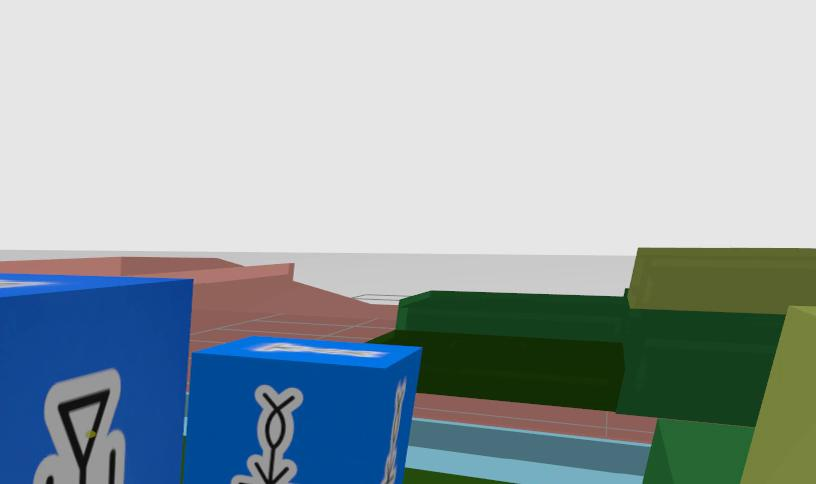KFS_REAL: (33, 370, 125, 483), (230, 385, 302, 483), (381, 378, 406, 483), (251, 342, 387, 357), (0, 280, 46, 288)
